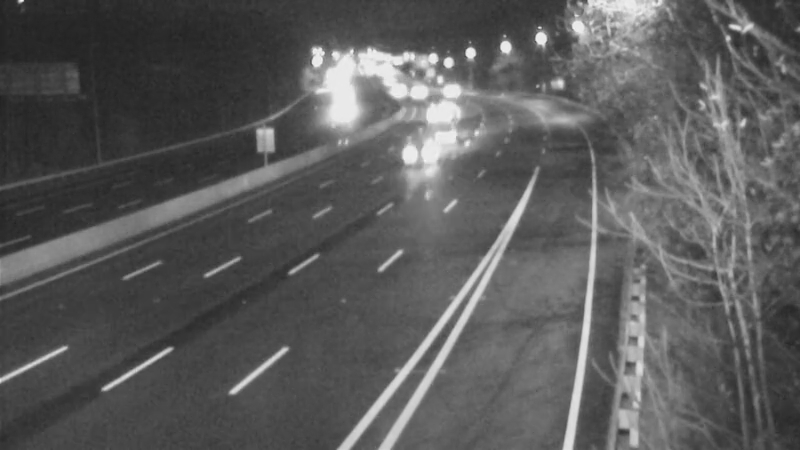vehicle: (386, 114, 466, 194), (420, 64, 470, 114), (367, 62, 417, 112), (384, 60, 434, 110), (410, 85, 460, 135), (423, 110, 473, 160), (316, 81, 366, 131)
